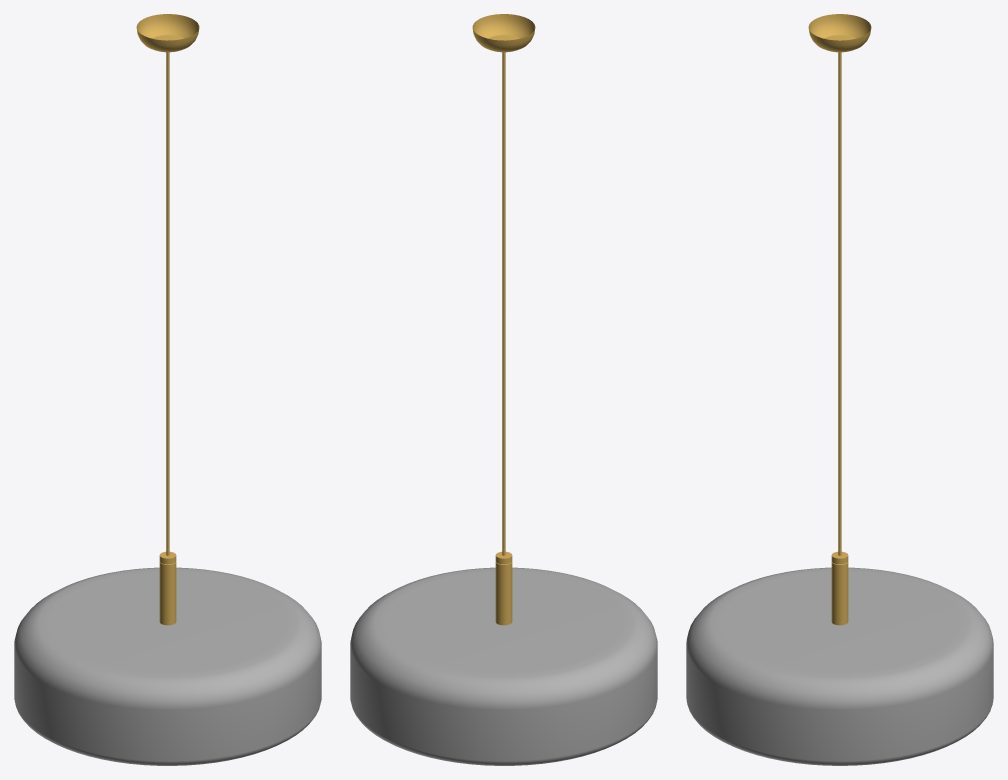
Rendered from Ceiling_Lamp_2.fbx.
The picture shows the model from 3 angles, left to right: view 1: azimuth 30°, elevation 25°; view 2: azimuth 150°, elevation 25°; view 3: azimuth 270°, elevation 25°; orthographic projection.
Visible parts, largest first — view 1: Ceiling_Lamp_2; view 2: Ceiling_Lamp_2; view 3: Ceiling_Lamp_2.
Boxes of the visible parts, x1,y1,x2,y2 form: Ceiling_Lamp_2: (14,14,321,765); Ceiling_Lamp_2: (350,14,657,765); Ceiling_Lamp_2: (686,14,993,765).
Size of the model in its own units: 40.17 by 97.67 by 40.17.
